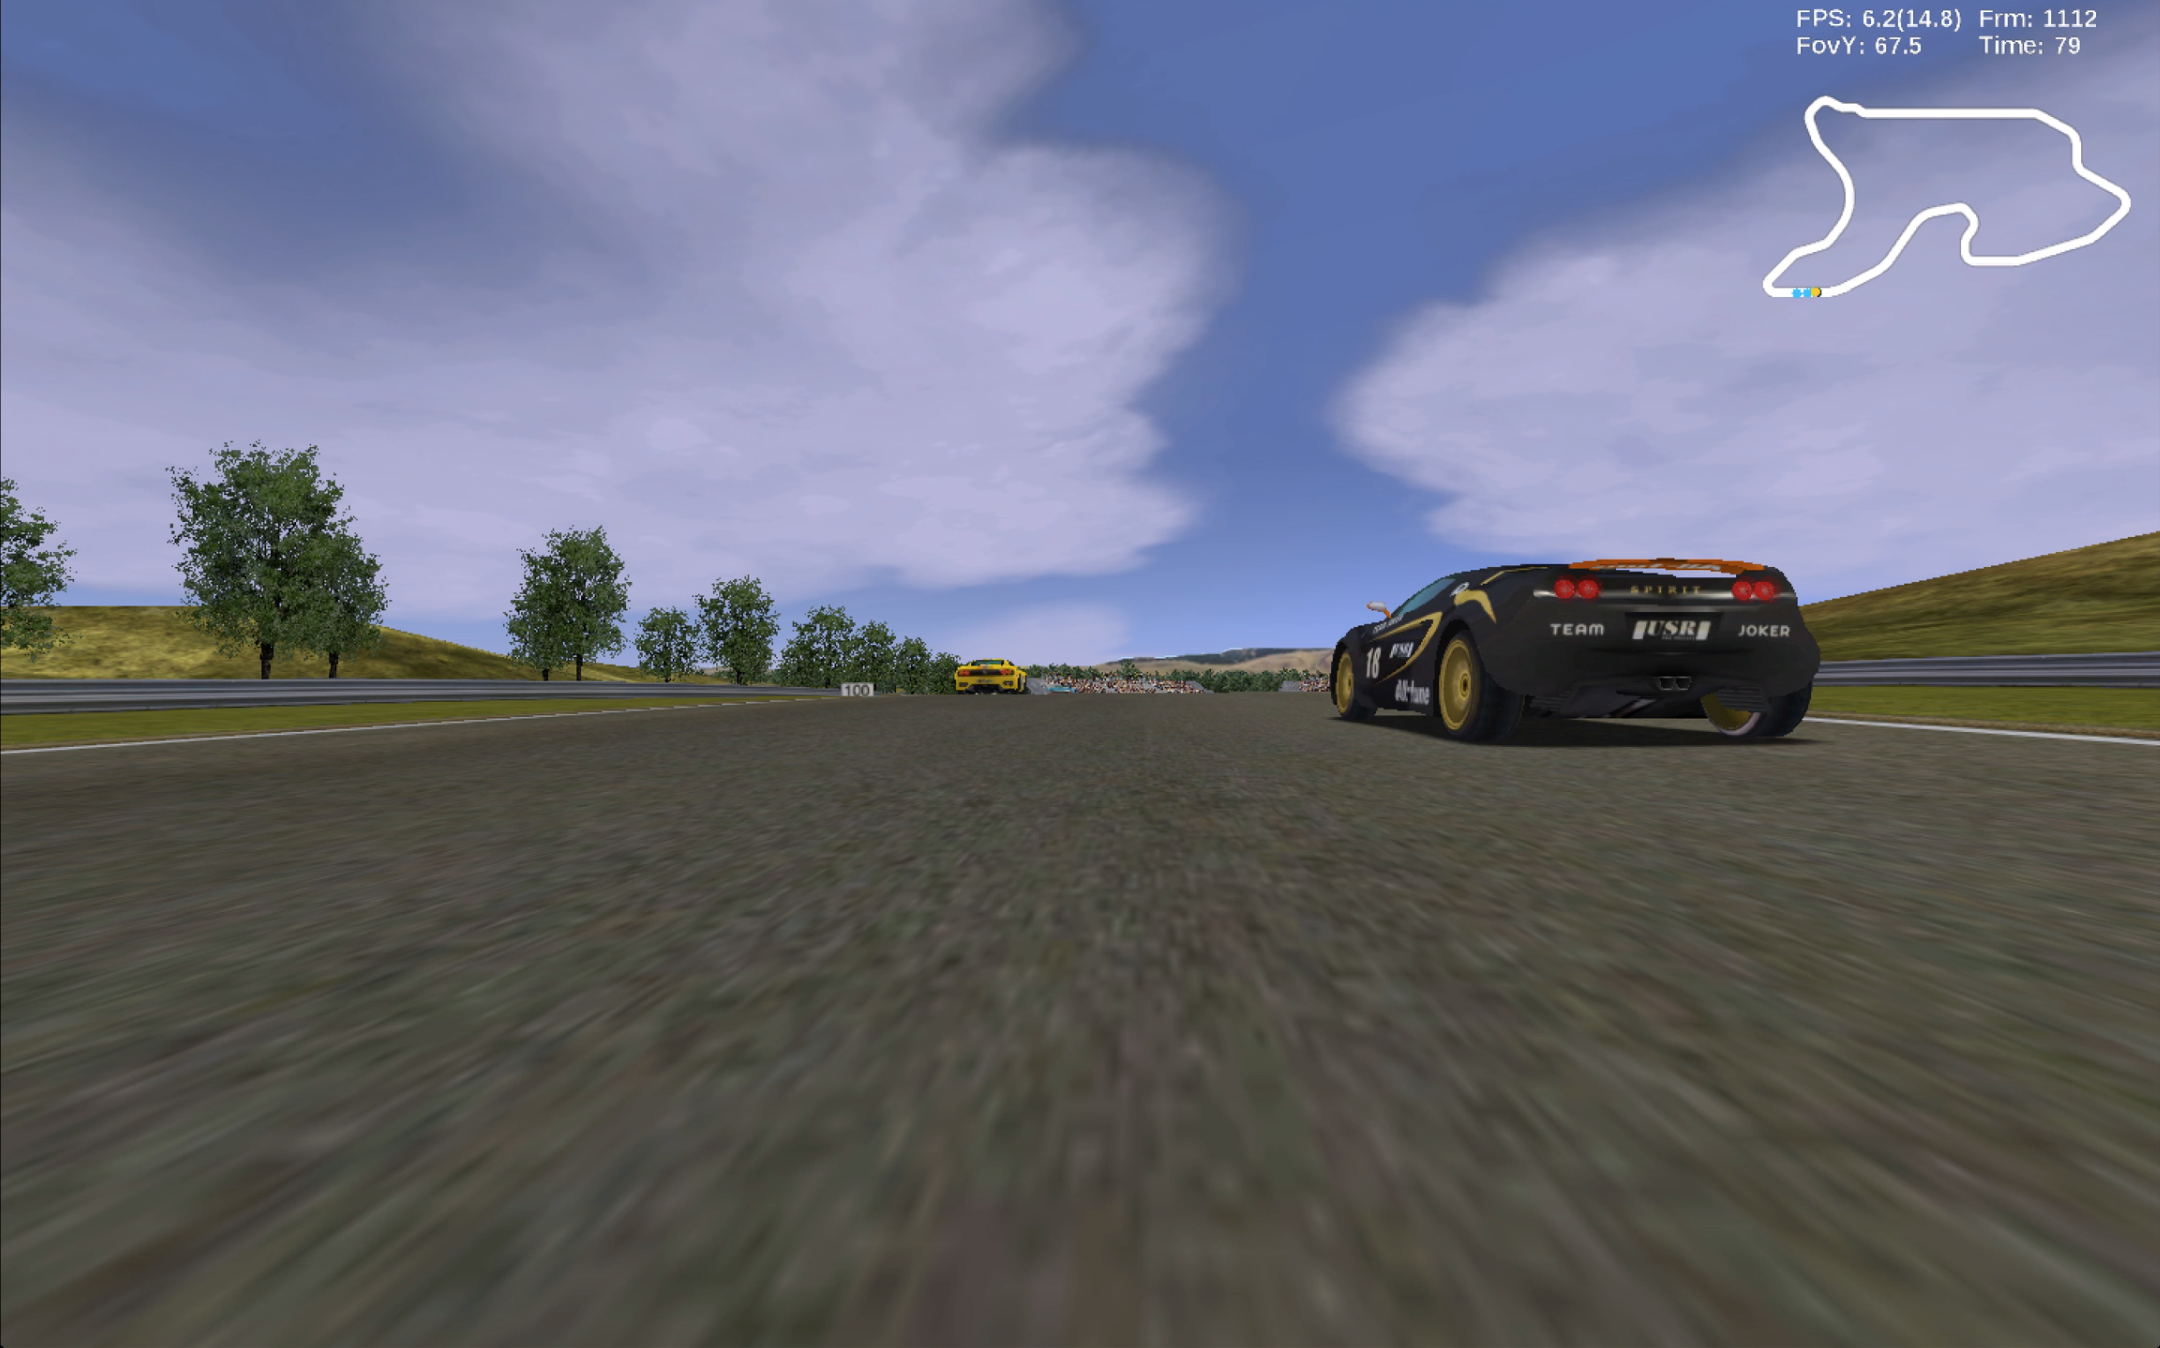Cavallo360: (953, 658, 1028, 696)
Spirit300: (1331, 554, 1821, 747)
